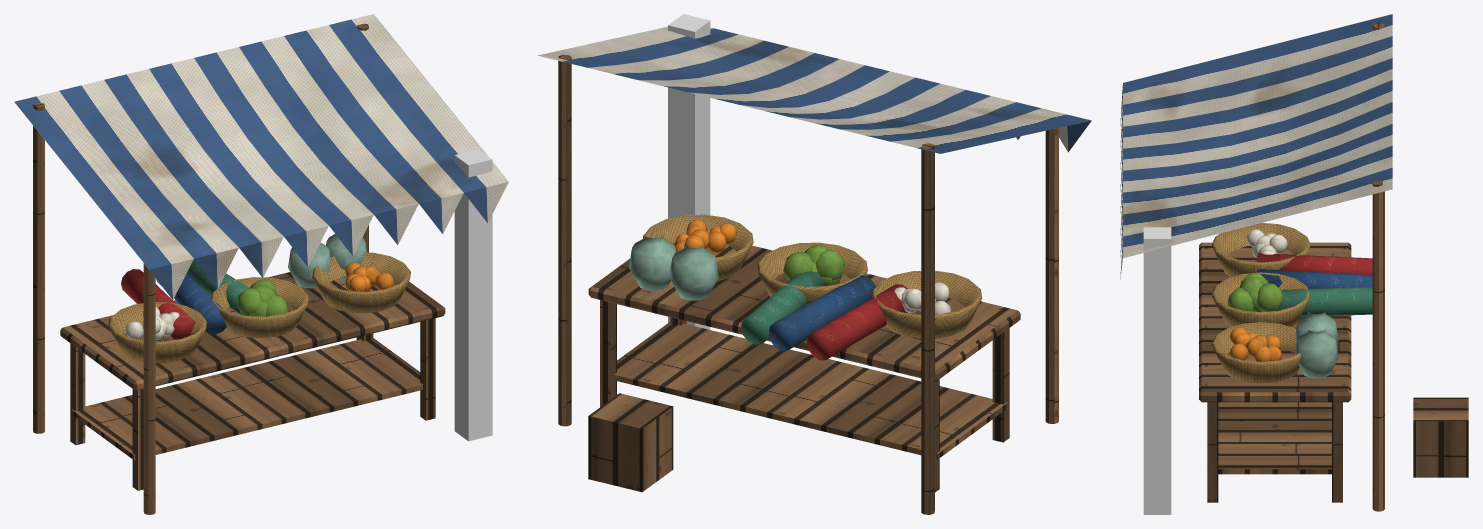
Rendered from market_stall.glb.
3 views of the same model, side by side, from view 1: azimuth 30°, elevation 25°; view 2: azimuth 150°, elevation 25°; view 3: azimuth 270°, elevation 25° (orthographic). The views are drawn at different scales.
Visible parts, largest first — view 1: StallAwning, StallWood, StallPost-convcolonly.001, StallBaskets, StallJars, StallBolt0, StallProduce0, StallBolt1, StallProduce1, StallBolt2, StallProduce3; view 2: StallWood, StallAwning, StallBaskets, StallPost-convcolonly.001, StallJars, StallBolt1, StallBolt0, StallBolt2, StallProduce0, StallProduce1, StallProduce3; view 3: StallAwning, StallWood, StallPost-convcolonly.001, StallBaskets, StallJars, StallBolt2, StallBolt0, StallProduce0, StallBolt1, StallProduce1, StallProduce3.
Part boxes in pixels (x1,y1,x2,y2): StallAwning: (14, 14, 508, 299); StallWood: (33, 23, 445, 514); StallPost-convcolonly.001: (454, 149, 492, 441); StallBaskets: (108, 252, 410, 362); StallJars: (288, 234, 366, 288); StallBolt0: (121, 269, 195, 339); StallProduce0: (237, 279, 288, 316); StallBolt1: (156, 273, 226, 334); StallProduce1: (345, 262, 394, 291); StallBolt2: (187, 259, 249, 314); StallProduce3: (125, 307, 179, 340); StallWood: (558, 54, 1058, 514); StallAwning: (537, 26, 1091, 153); StallBaskets: (643, 214, 982, 338); StallPost-convcolonly.001: (668, 14, 710, 329); StallJars: (629, 234, 718, 300); StallBolt1: (769, 275, 875, 350); StallBolt0: (807, 284, 907, 360); StallBolt2: (741, 271, 824, 344); StallProduce0: (783, 245, 845, 286); StallProduce1: (674, 219, 736, 252); StallProduce3: (894, 282, 951, 314); StallAwning: (1120, 14, 1392, 279); StallWood: (1199, 22, 1468, 511); StallPost-convcolonly.001: (1143, 227, 1171, 514); StallBaskets: (1211, 222, 1310, 383); StallJars: (1295, 311, 1338, 378); StallBolt2: (1276, 287, 1372, 316); StallBolt0: (1256, 253, 1372, 274); StallProduce0: (1227, 273, 1284, 311); StallBolt1: (1257, 269, 1372, 288); StallProduce1: (1229, 327, 1281, 361); StallProduce3: (1246, 229, 1287, 258).
Size of what is drawn, in the model's own units: 3 by 2.62 by 2.52.
Materials: 10 (10 with a texture image).
